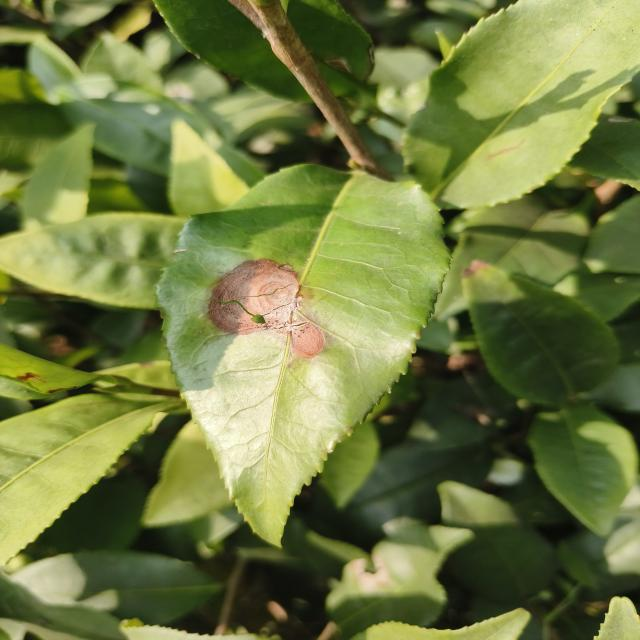Leaf: (158, 165, 447, 545), (403, 0, 640, 208), (0, 394, 181, 565), (308, 402, 492, 544), (462, 260, 618, 405), (436, 196, 588, 318), (0, 213, 183, 309), (326, 524, 474, 640), (51, 72, 209, 174), (154, 0, 311, 102), (12, 550, 222, 625), (438, 481, 557, 604), (529, 405, 638, 536), (142, 420, 233, 527), (284, 0, 373, 96), (169, 120, 249, 216), (23, 124, 94, 230), (321, 419, 380, 509), (570, 117, 640, 189)
